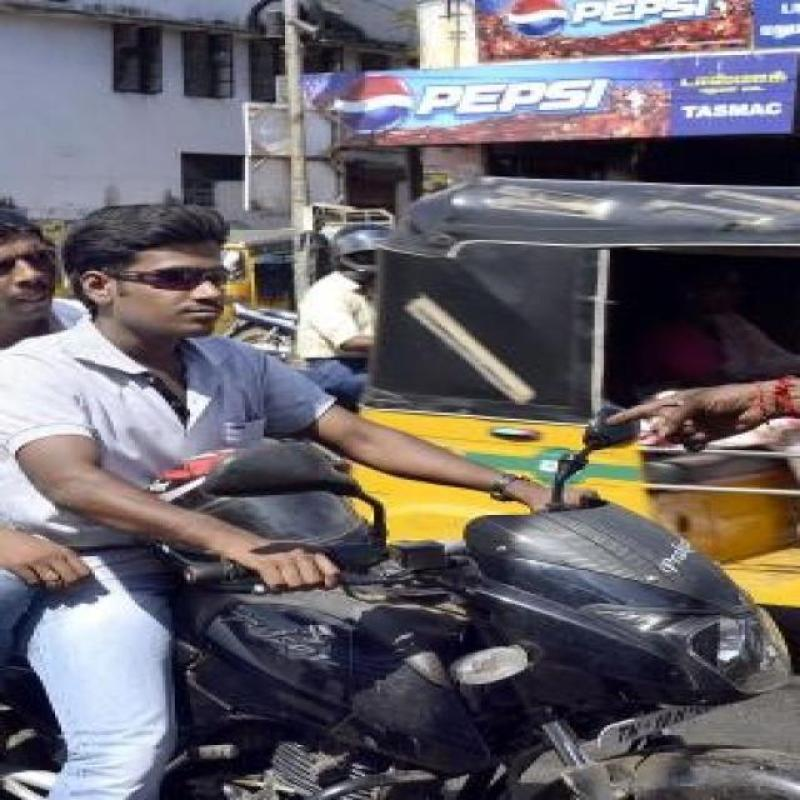nohelmet: (48, 205, 293, 345)
